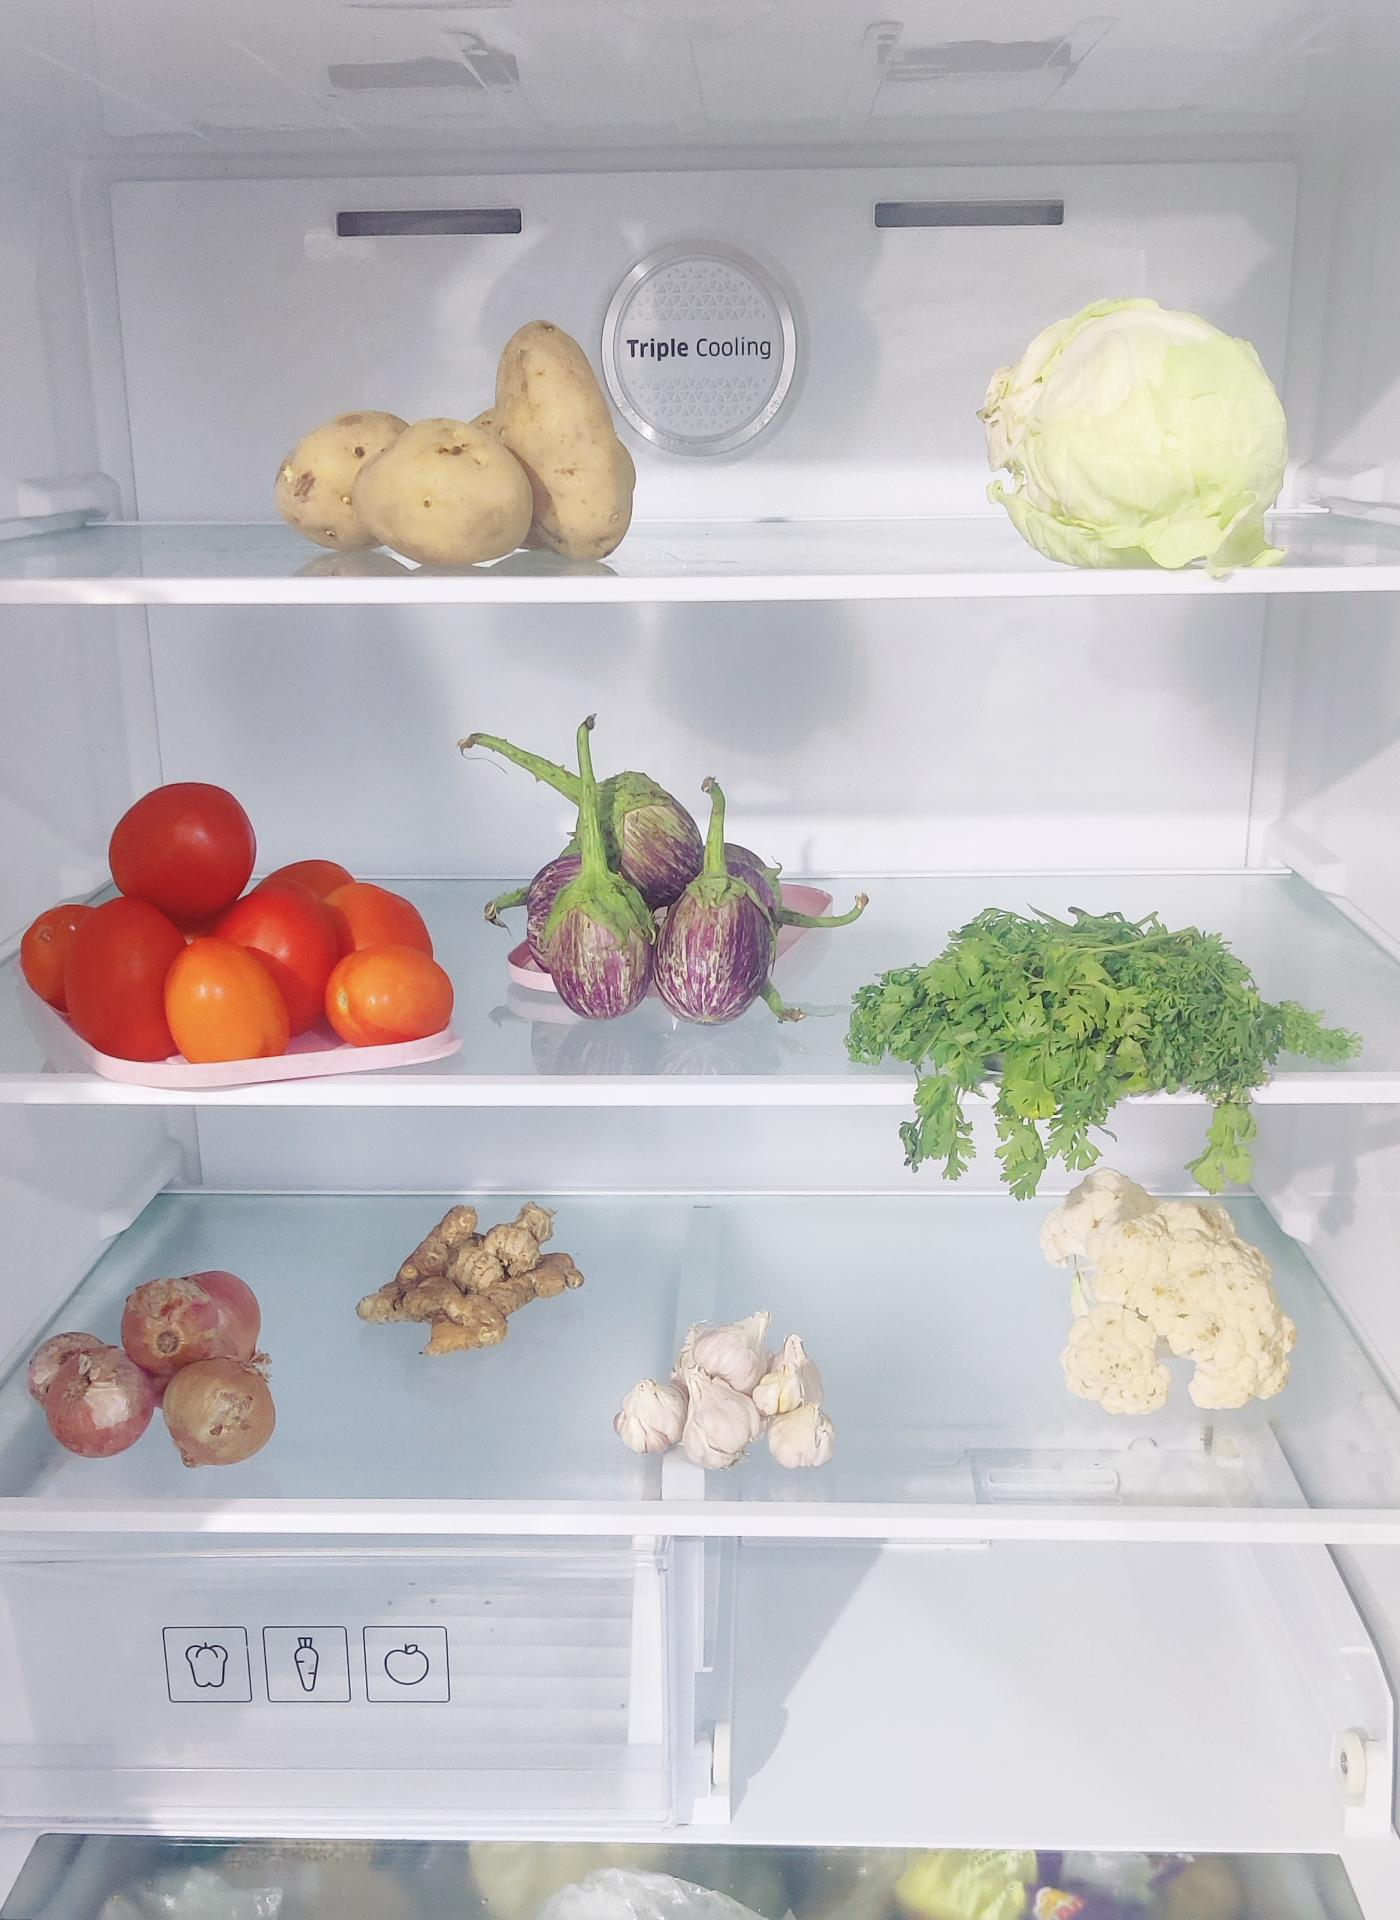brinjal: (505, 723, 844, 1020)
cabbage: (984, 292, 1291, 563)
cauliflower: (1068, 1191, 1291, 1419)
coriander: (859, 884, 1342, 1176)
garlic: (637, 1309, 844, 1468)
ginger: (386, 1191, 576, 1333)
onion: (51, 1260, 289, 1480)
potato: (289, 316, 637, 547)
tomato: (31, 786, 449, 1082)
